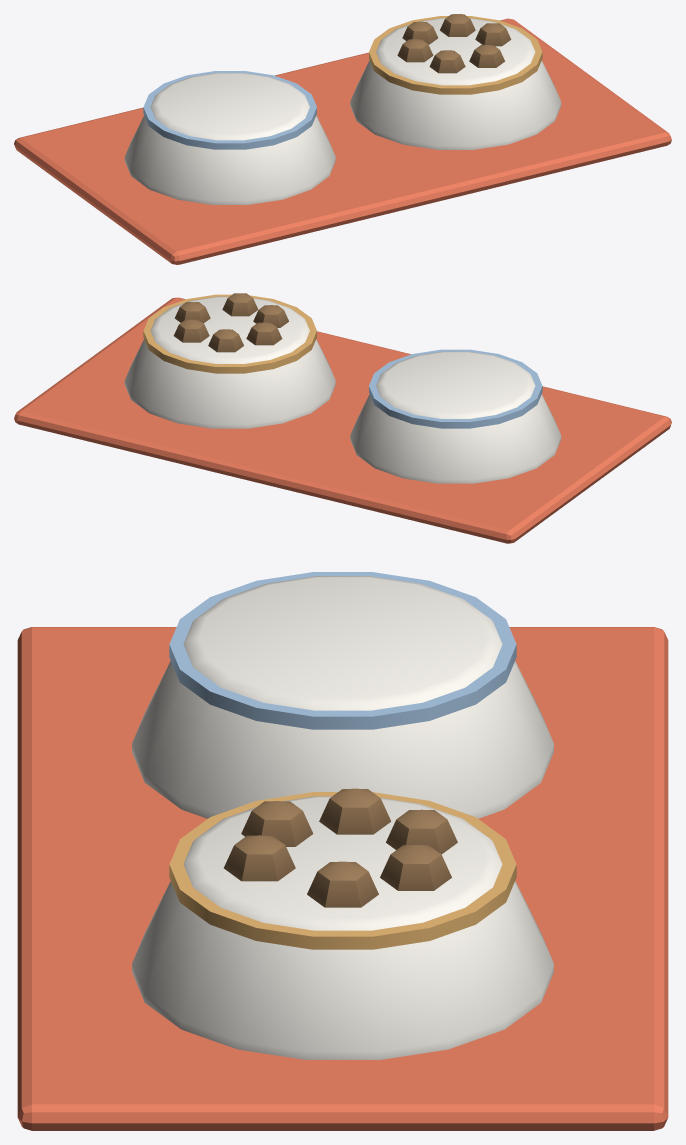
Rendered from t_bowls.gltf.
The picture shows the model from 3 angles, top to bottom: view 1: azimuth 30°, elevation 25°; view 2: azimuth 150°, elevation 25°; view 3: azimuth 270°, elevation 25°; orthographic projection. The views are drawn at different scales.
Visible parts, largest first — view 1: t_bowls; view 2: t_bowls; view 3: t_bowls.
Boxes of the visible parts, x1,y1,x2,y2 form: t_bowls: [14, 14, 671, 264]; t_bowls: [14, 293, 671, 543]; t_bowls: [17, 572, 668, 1130].
Bounding box in the file's own units: 0.8 × 0.135 × 0.45.
Materials: 1 (1 with a texture image).
